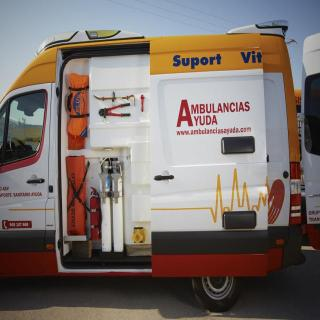Ambulance: (5, 23, 305, 300)
